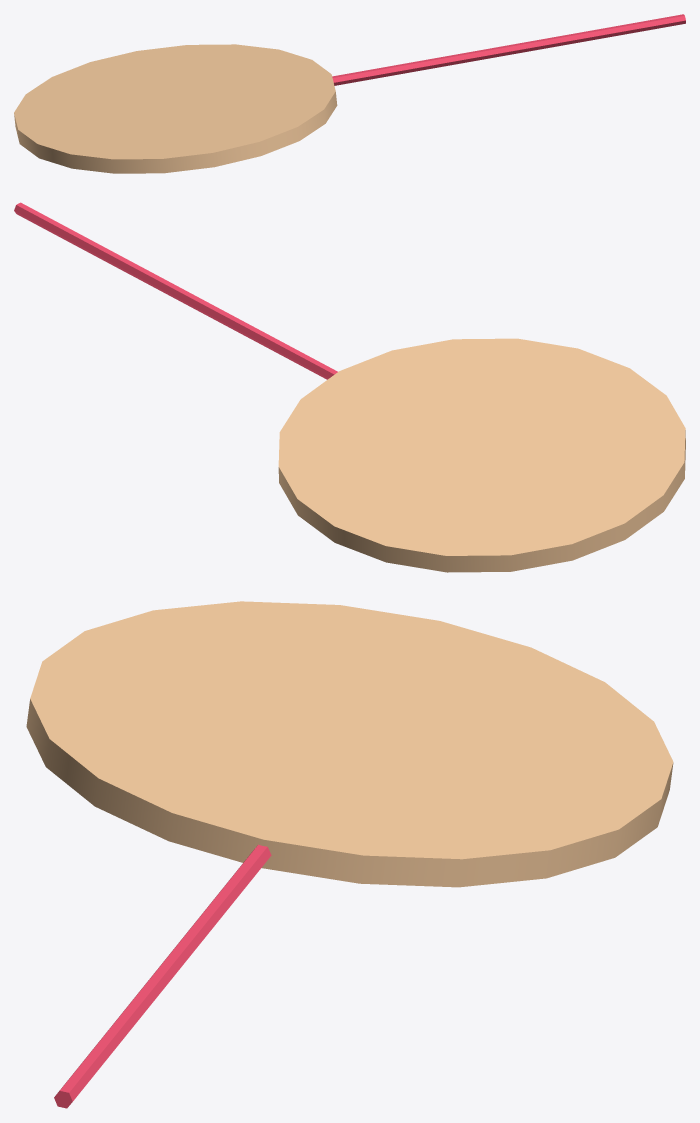
Rendered from ToyObject_162.fbx.
3 views of the same model, one above another, from view 1: azimuth 30°, elevation 25°; view 2: azimuth 150°, elevation 25°; view 3: azimuth 270°, elevation 25° (orthographic). The views are drawn at different scales.
Parts seen in each view (by area): view 1: object-1.064; view 2: object-1.064; view 3: object-1.064.
Boxes of the visible parts, bbox=[...] form: object-1.064: bbox=[14, 14, 685, 173]; object-1.064: bbox=[14, 202, 685, 572]; object-1.064: bbox=[26, 601, 673, 1108].
Size of the model in its own units: 0.2029 by 0.022 by 0.0982.
